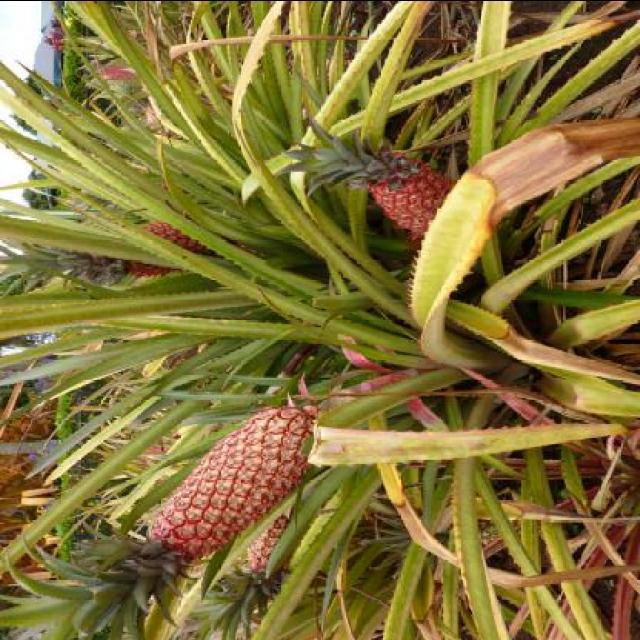Pineapple: (0, 398, 323, 640), (278, 114, 456, 240), (0, 209, 237, 300), (172, 512, 302, 638), (64, 175, 184, 219), (81, 62, 137, 78)
